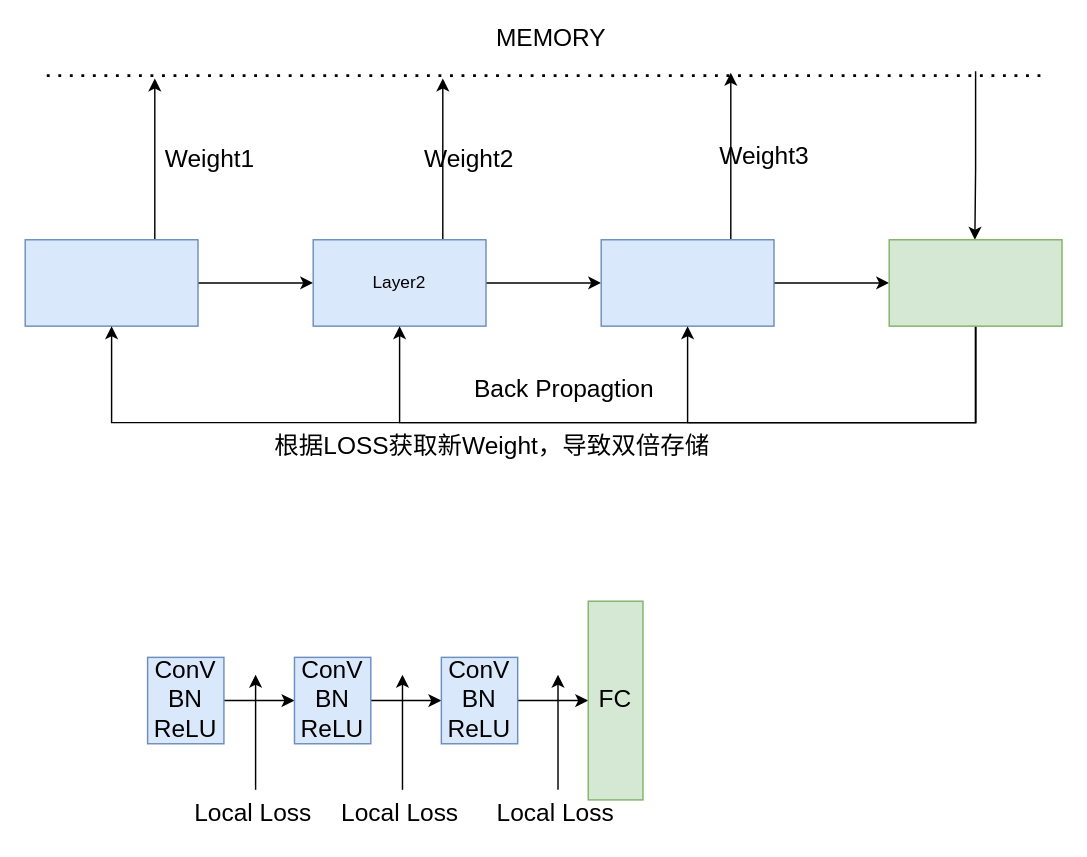
This 1087x857 diagram has some shape labels left out. Each missing label, with the centre of its shape:
"Layer1" goes at [111,282].
"Layer3" goes at [687,282].
"Predict" goes at [975,282].
